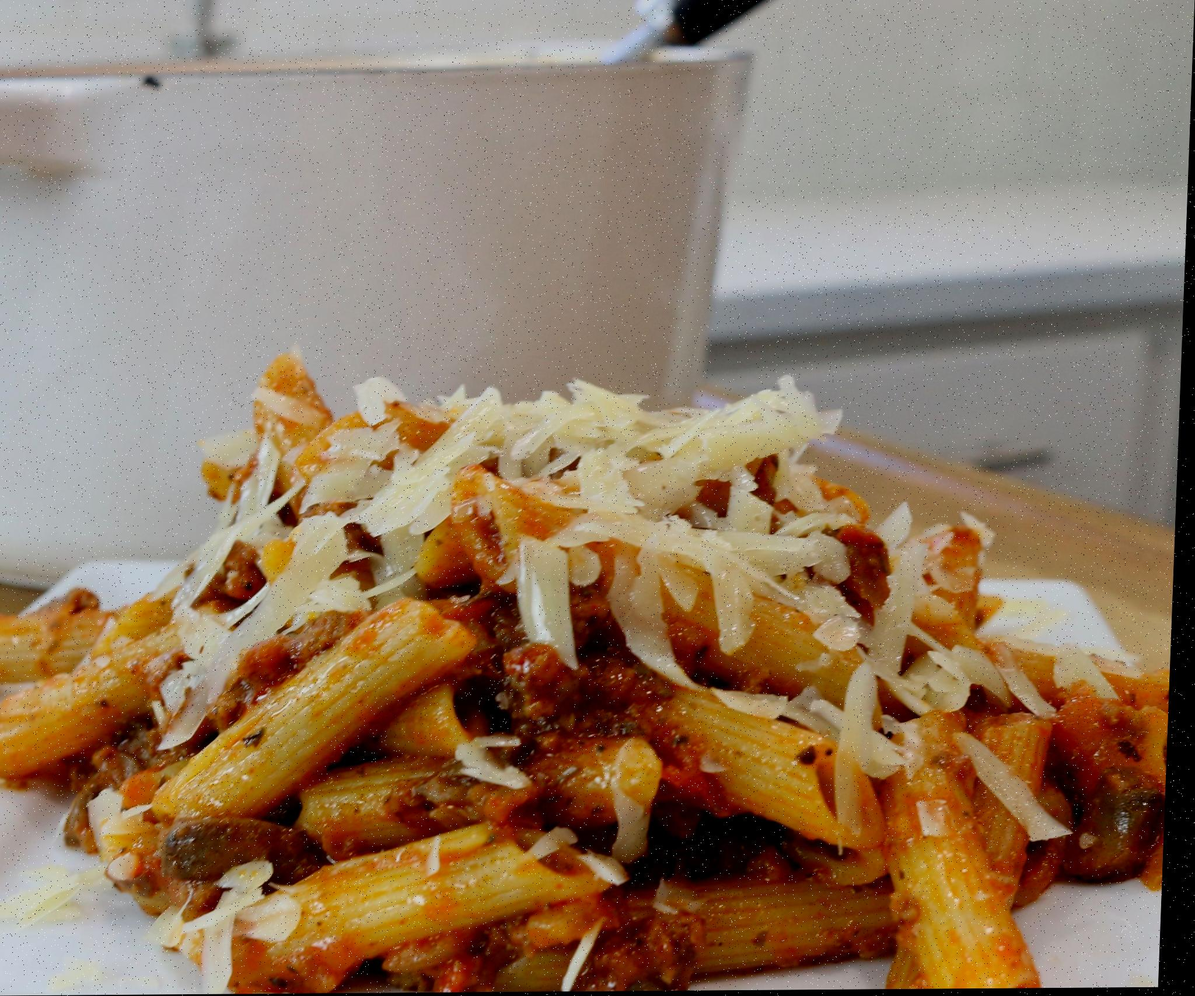pasta: (0, 354, 1169, 993)
